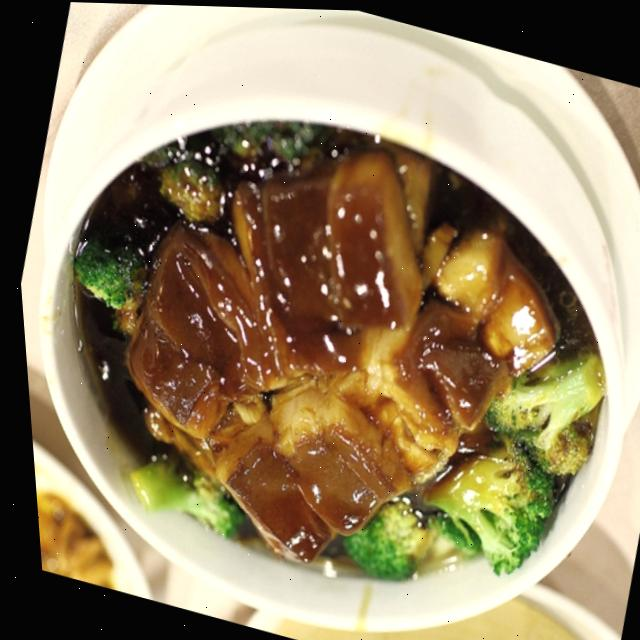牛肉菜式: (12, 68, 640, 640)
